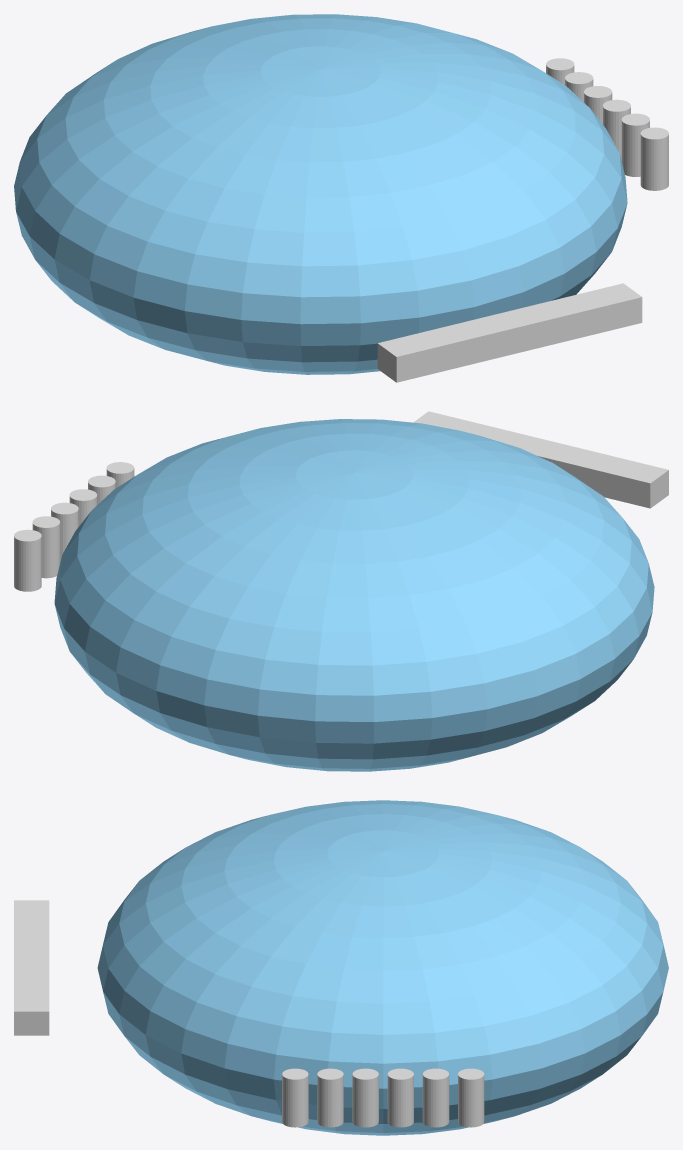
File: phoenix_x12.glb
3 views of the same model, one above another, from view 1: azimuth 30°, elevation 25°; view 2: azimuth 150°, elevation 25°; view 3: azimuth 270°, elevation 25° (orthographic). The views are drawn at different scales.
Visible parts, largest first — view 1: Housing, HV_DC_BUS, SuperCap_1, SuperCap_2, SuperCap_3, SuperCap_4, SuperCap_5; view 2: Housing, HV_DC_BUS, SuperCap_6, SuperCap_5, SuperCap_4, SuperCap_3; view 3: Housing, HV_DC_BUS, SuperCap_5, SuperCap_4, SuperCap_6, SuperCap_1, SuperCap_3, SuperCap_2.
Boxes of the visible parts, box(x1,y1,x2,y2) form: Housing: box(14, 14, 627, 374); HV_DC_BUS: box(377, 283, 642, 382); SuperCap_1: box(640, 127, 668, 190); SuperCap_2: box(621, 113, 649, 176); SuperCap_3: box(603, 99, 630, 160); SuperCap_4: box(584, 86, 612, 124); SuperCap_5: box(565, 72, 593, 101); Housing: box(54, 419, 654, 771); HV_DC_BUS: box(413, 411, 668, 508); SuperCap_6: box(14, 529, 41, 591); SuperCap_5: box(32, 516, 60, 578); SuperCap_4: box(51, 502, 78, 561); SuperCap_3: box(69, 489, 97, 526); Housing: box(97, 800, 668, 1135); HV_DC_BUS: box(14, 900, 49, 1035); SuperCap_5: box(422, 1068, 449, 1127); SuperCap_4: box(387, 1068, 413, 1127); SuperCap_6: box(458, 1068, 484, 1127); SuperCap_1: box(282, 1068, 308, 1127); SuperCap_3: box(352, 1068, 378, 1127); SuperCap_2: box(317, 1068, 343, 1127).
Size of the model in its own units: 13.8 by 5.85 by 14.9.
